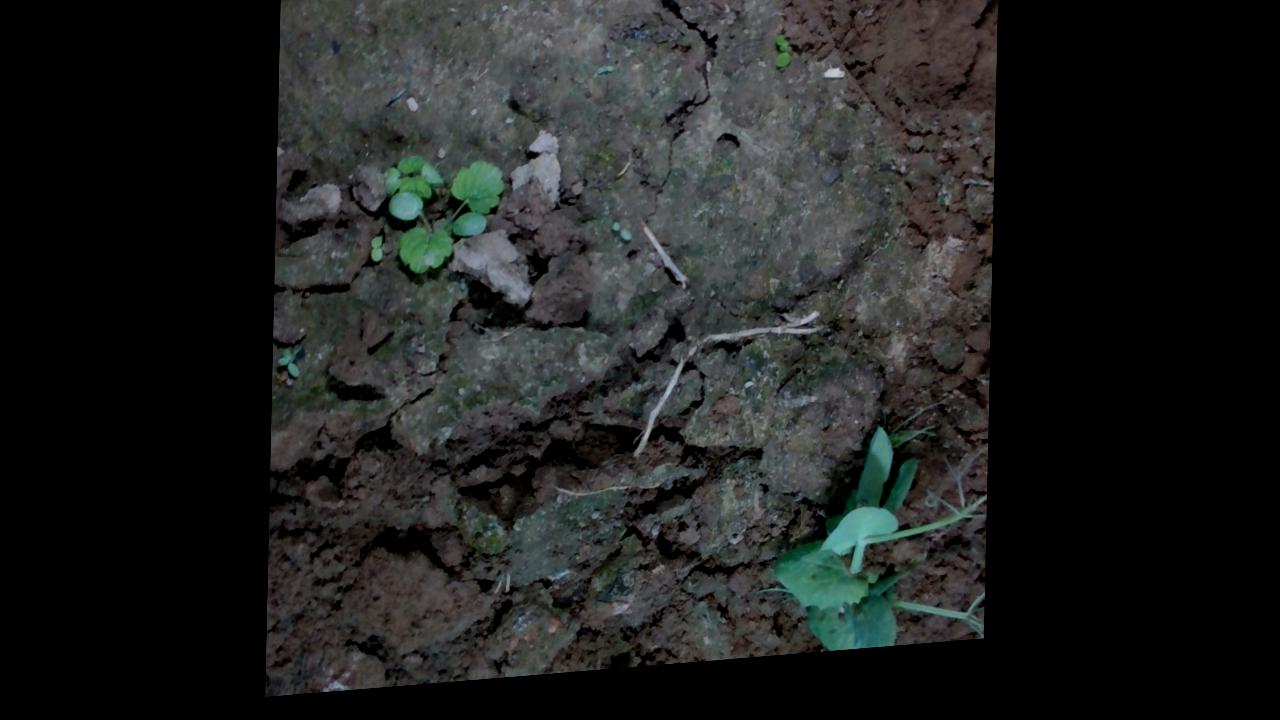weed: (767, 38, 805, 97), (613, 219, 631, 252), (836, 280, 851, 315)
